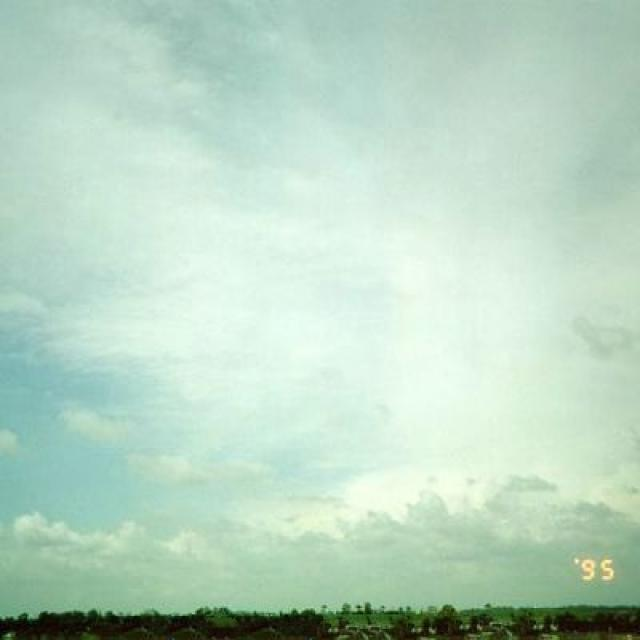Cs: (27, 35, 640, 475)
